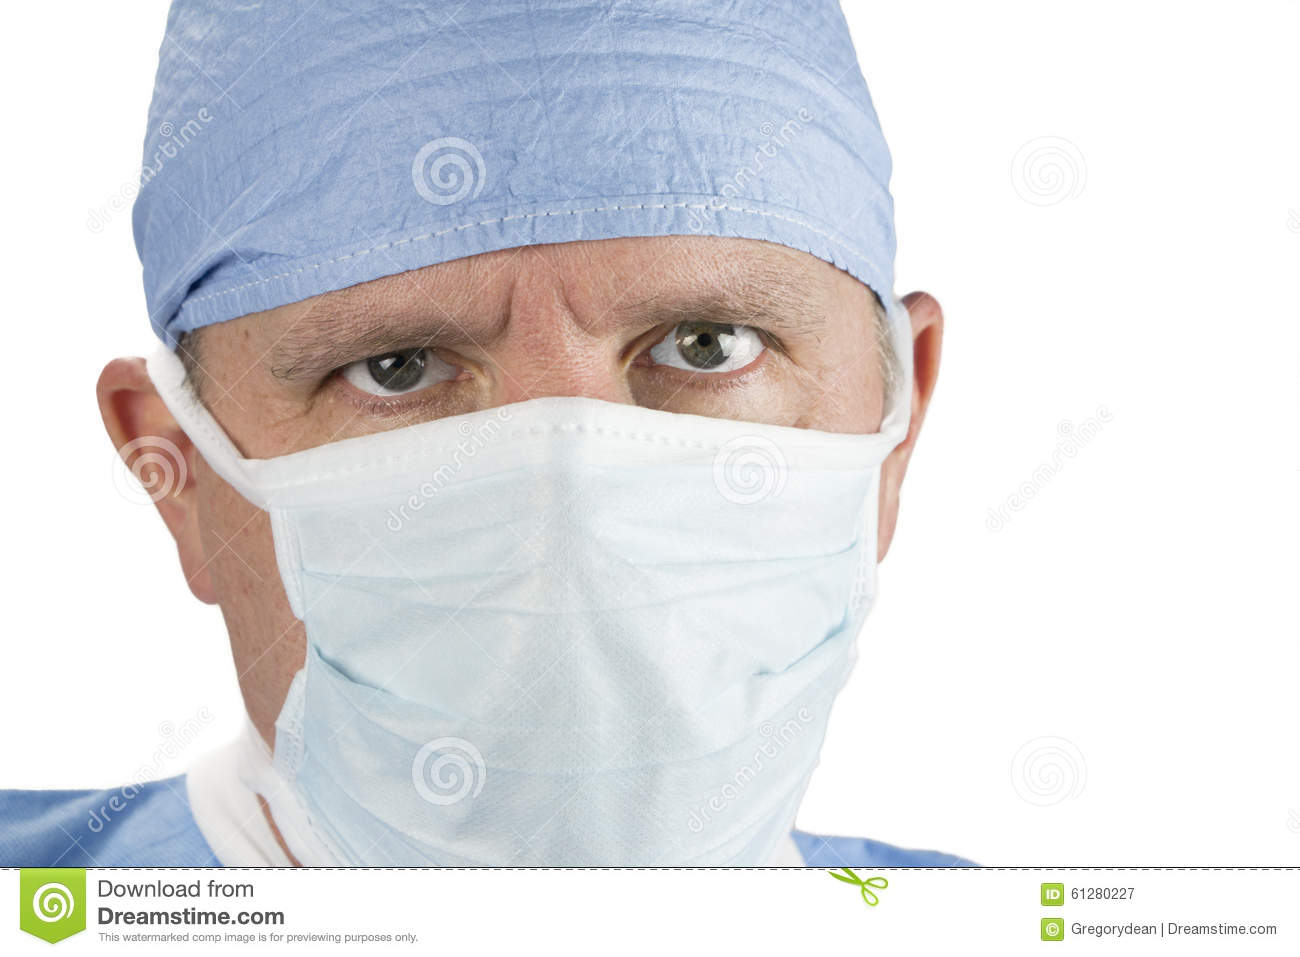mask: (251, 426, 881, 874)
